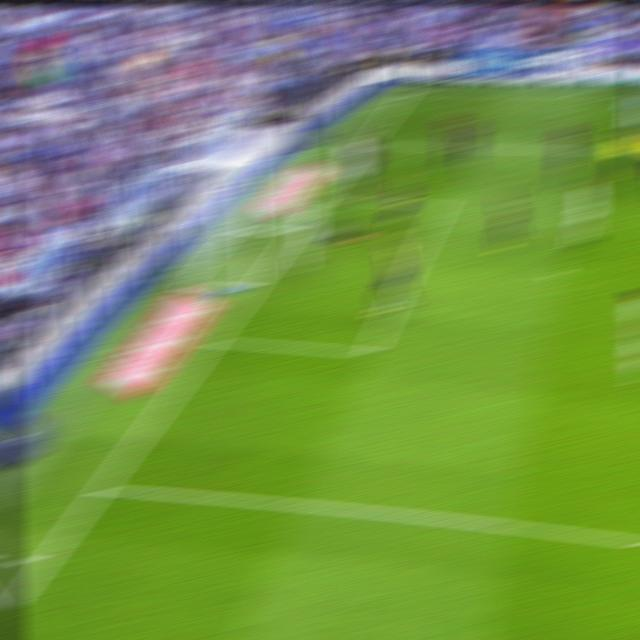bigarea_bottom_inner: (359, 340, 380, 362)
bottom_arc_area_intersection: (87, 473, 115, 502)
corner: (397, 86, 418, 98)
smallarea_top_outter: (313, 190, 333, 203)
